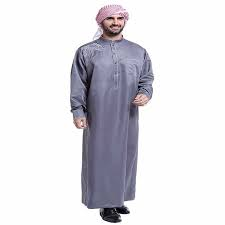middle_eastern_male: (100, 13, 129, 36)
